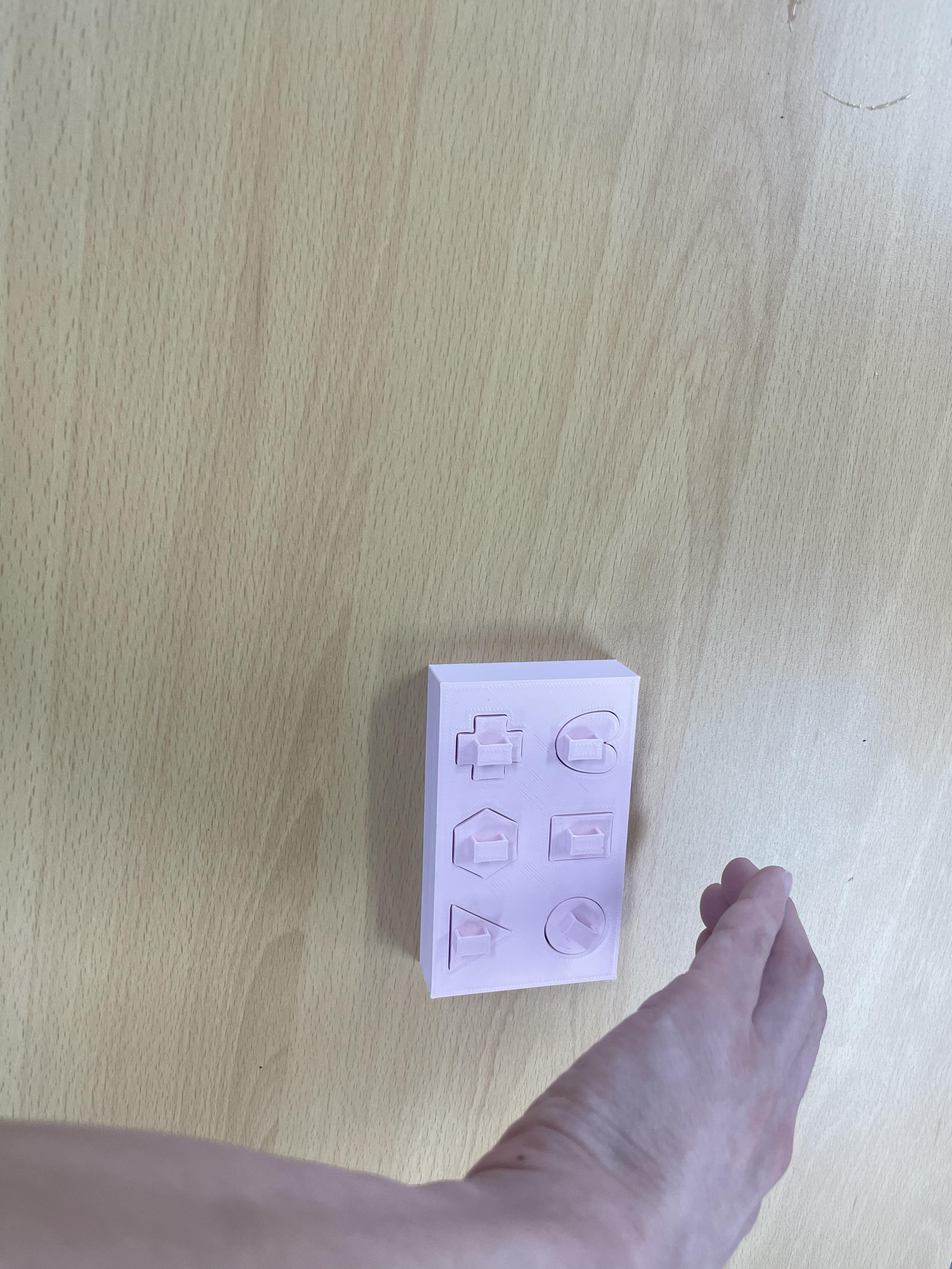solved: (412, 646, 644, 999)
